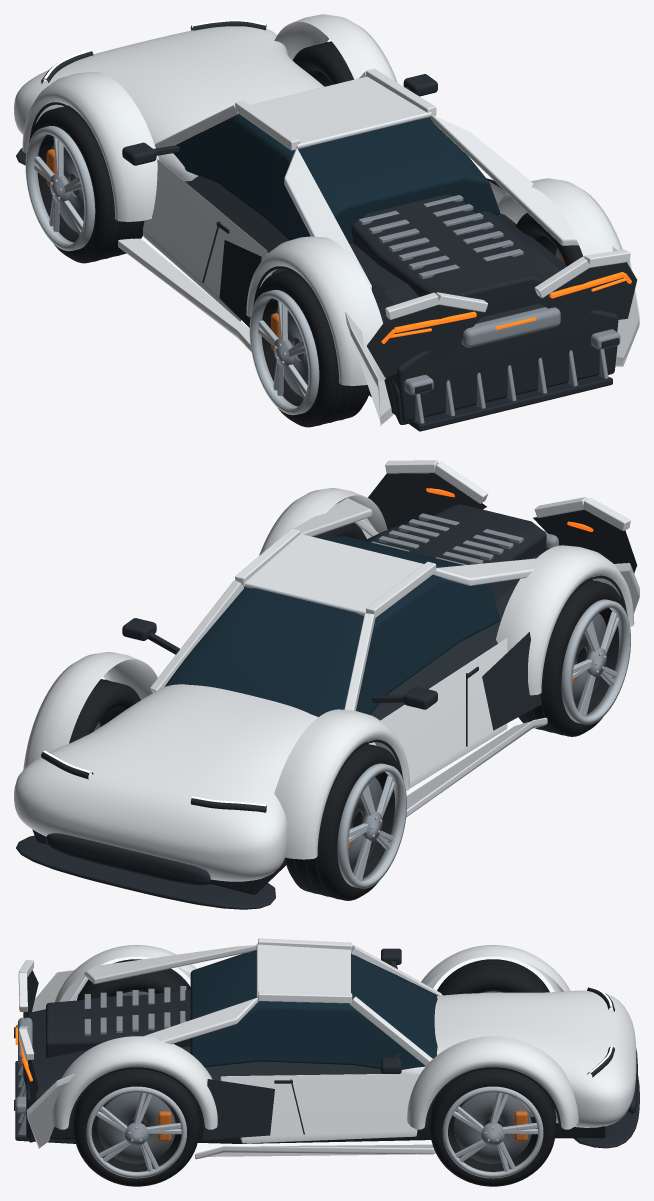
Rendered from Cloudline_C02.glb.
3 views of the same model, one above another, from view 1: azimuth 30°, elevation 25°; view 2: azimuth 150°, elevation 25°; view 3: azimuth 270°, elevation 25° (orthographic). The views are drawn at different scales.
Parts seen in each view (by area): view 1: Canopy glass, Carbon monocoque, Full rounded front, Rear engine spine, Front sculpted fender -1, Rear sculpted fender -1, Door skin -1, Floating white roof, Rear tire -1, Front tire -1, Recessed tail pocket -1, Flying buttress.001 (+24 smaller); view 2: Full rounded front, Canopy glass, Front sculpted fender -1, Floating white roof, Door skin -1, Rear sculpted fender -1, Front tire -1, Front sculpted fender 1, Rear tire -1, Rounded front lip, Rear engine spine, Carbon monocoque (+22 smaller); view 3: Canopy glass, Full rounded front, Door skin 1, Carbon monocoque, Front sculpted fender 1, Rear sculpted fender 1, Rear tire 1, Front tire 1, Rear engine spine, Floating white roof, Side intake 1, Front tire -1 (+24 smaller).
Part boxes in pixels (x1,y1,x2,y2): Canopy glass: (173,114,499,244); Carbon monocoque: (185,176,618,421); Full rounded front: (14,26,324,181); Rear engine spine: (351,194,544,317); Front sculpted fender -1: (22,72,158,221); Rear sculpted fender -1: (246,236,385,385); Door skin -1: (143,159,267,321); Floating white roof: (251,76,431,148); Rear tire -1: (253,269,369,427); Front tire -1: (29,105,144,263); Recessed tail pocket -1: (367,305,486,377); Flying buttress.001: (431,115,578,245); Full rounded front: (14,684,318,881); Canopy glass: (164,536,499,716); Front sculpted fender -1: (274,709,409,859); Floating white roof: (244,534,423,615); Door skin -1: (367,638,507,788); Rear sculpted fender -1: (496,545,634,695); Front tire -1: (285,743,403,900); Front sculpted fender 1: (23,652,157,769); Rear tire -1: (518,579,627,736); Rounded front lip: (16,835,275,909); Rear engine spine: (382,504,546,564); Carbon monocoque: (32,520,591,894); Canopy glass: (190,950,437,1069); Full rounded front: (401,990,636,1127); Door skin 1: (220,1073,420,1143); Carbon monocoque: (26,996,605,1143); Front sculpted fender 1: (407,1036,578,1129); Rear sculpted fender 1: (51,1036,217,1129); Rear tire 1: (74,1067,199,1186); Front tire 1: (430,1067,555,1186); Rear engine spine: (46,989,190,1057); Floating white roof: (256,943,350,997); Side intake 1: (203,1079,274,1140); Front tire -1: (437,959,549,995).
Bounding box in the file's own units: 2.41 × 1.48 × 5.11.
